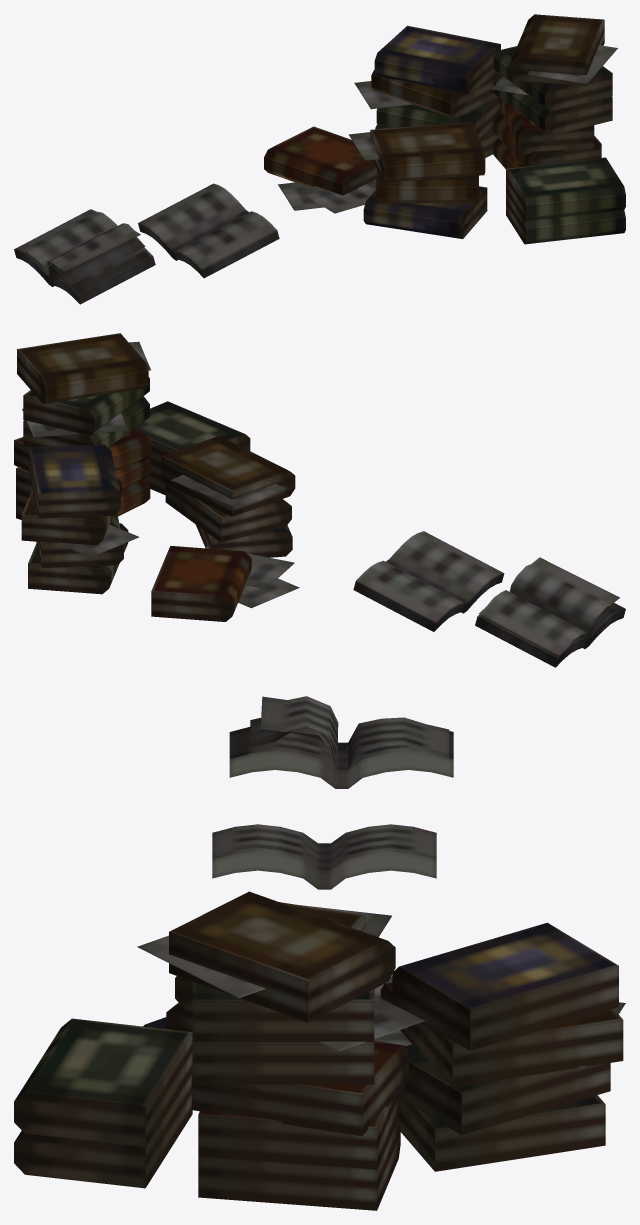
File: EnvObjMD_Book_A_Mass.FBX
3 views of the same model, one above another, from view 1: azimuth 30°, elevation 25°; view 2: azimuth 150°, elevation 25°; view 3: azimuth 270°, elevation 25° (orthographic). The views are drawn at different scales.
Parts seen in each view (by area): view 1: EnvObjMD_Book_A_Mass, EnvObjMD_Book_A_Open, EnvObjMD_Book_A_Open_Sym; view 2: EnvObjMD_Book_A_Mass, EnvObjMD_Book_A_Open, EnvObjMD_Book_A_Open_Sym; view 3: EnvObjMD_Book_A_Mass, EnvObjMD_Book_A_Open, EnvObjMD_Book_A_Open_Sym.
Boxes of the visible parts, x1,y1,x2,y2 form: EnvObjMD_Book_A_Mass: [264, 14, 625, 244]; EnvObjMD_Book_A_Open: [14, 209, 155, 304]; EnvObjMD_Book_A_Open_Sym: [138, 183, 279, 278]; EnvObjMD_Book_A_Mass: [14, 333, 299, 621]; EnvObjMD_Book_A_Open: [475, 557, 625, 667]; EnvObjMD_Book_A_Open_Sym: [353, 531, 504, 631]; EnvObjMD_Book_A_Mass: [14, 891, 625, 1210]; EnvObjMD_Book_A_Open: [229, 696, 453, 788]; EnvObjMD_Book_A_Open_Sym: [212, 824, 436, 889].
Size of the model in its own units: 247 by 60.03 by 135.
Materials: 1 (1 with a texture image).
